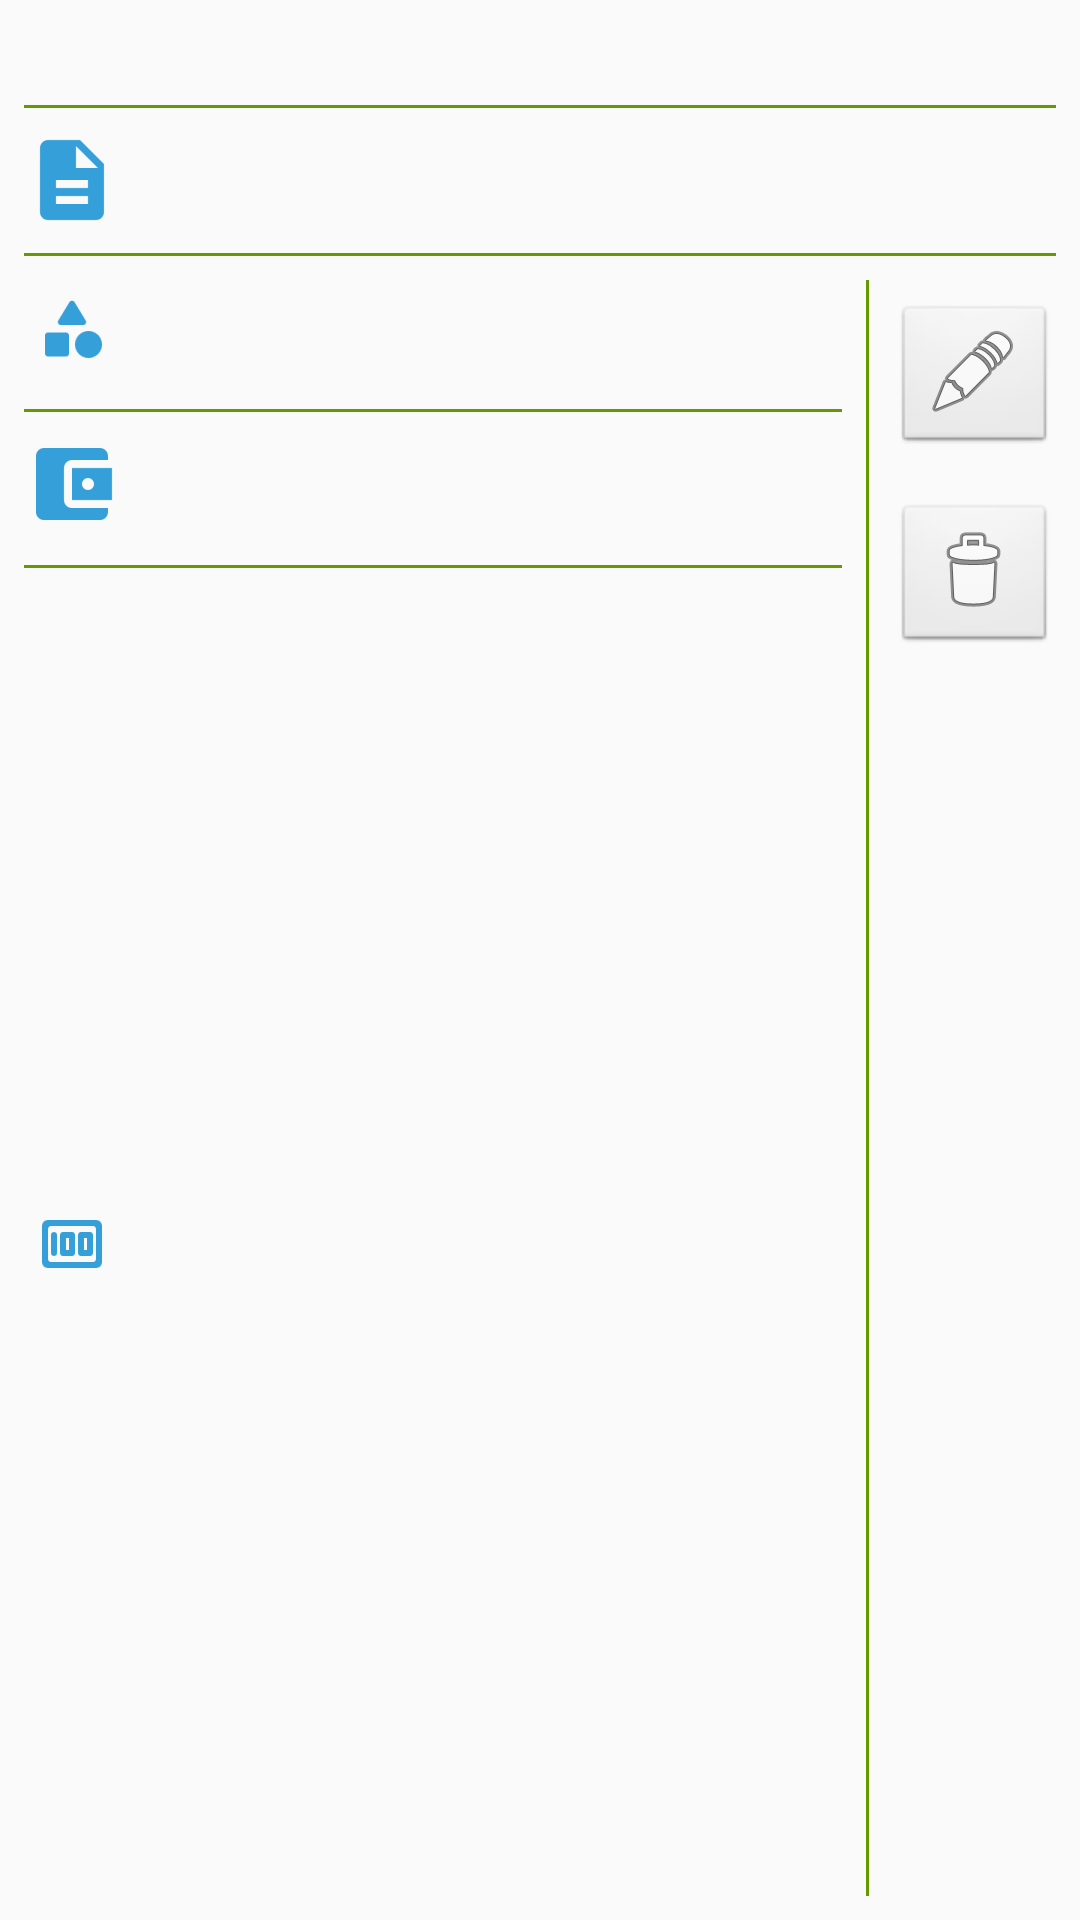

Point at icon controls on the screen. Image size 1080 x 1920, points as (x=x, y=y).
Account: (x=74, y=484)
Amount: (x=72, y=1244)
category: (x=73, y=329)
Delete invoice: (x=974, y=575)
description: (x=72, y=180)
Edit invoice: (x=974, y=374)
